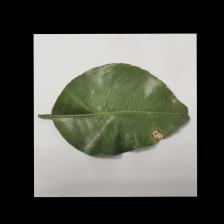canker: (144, 92, 186, 148)
